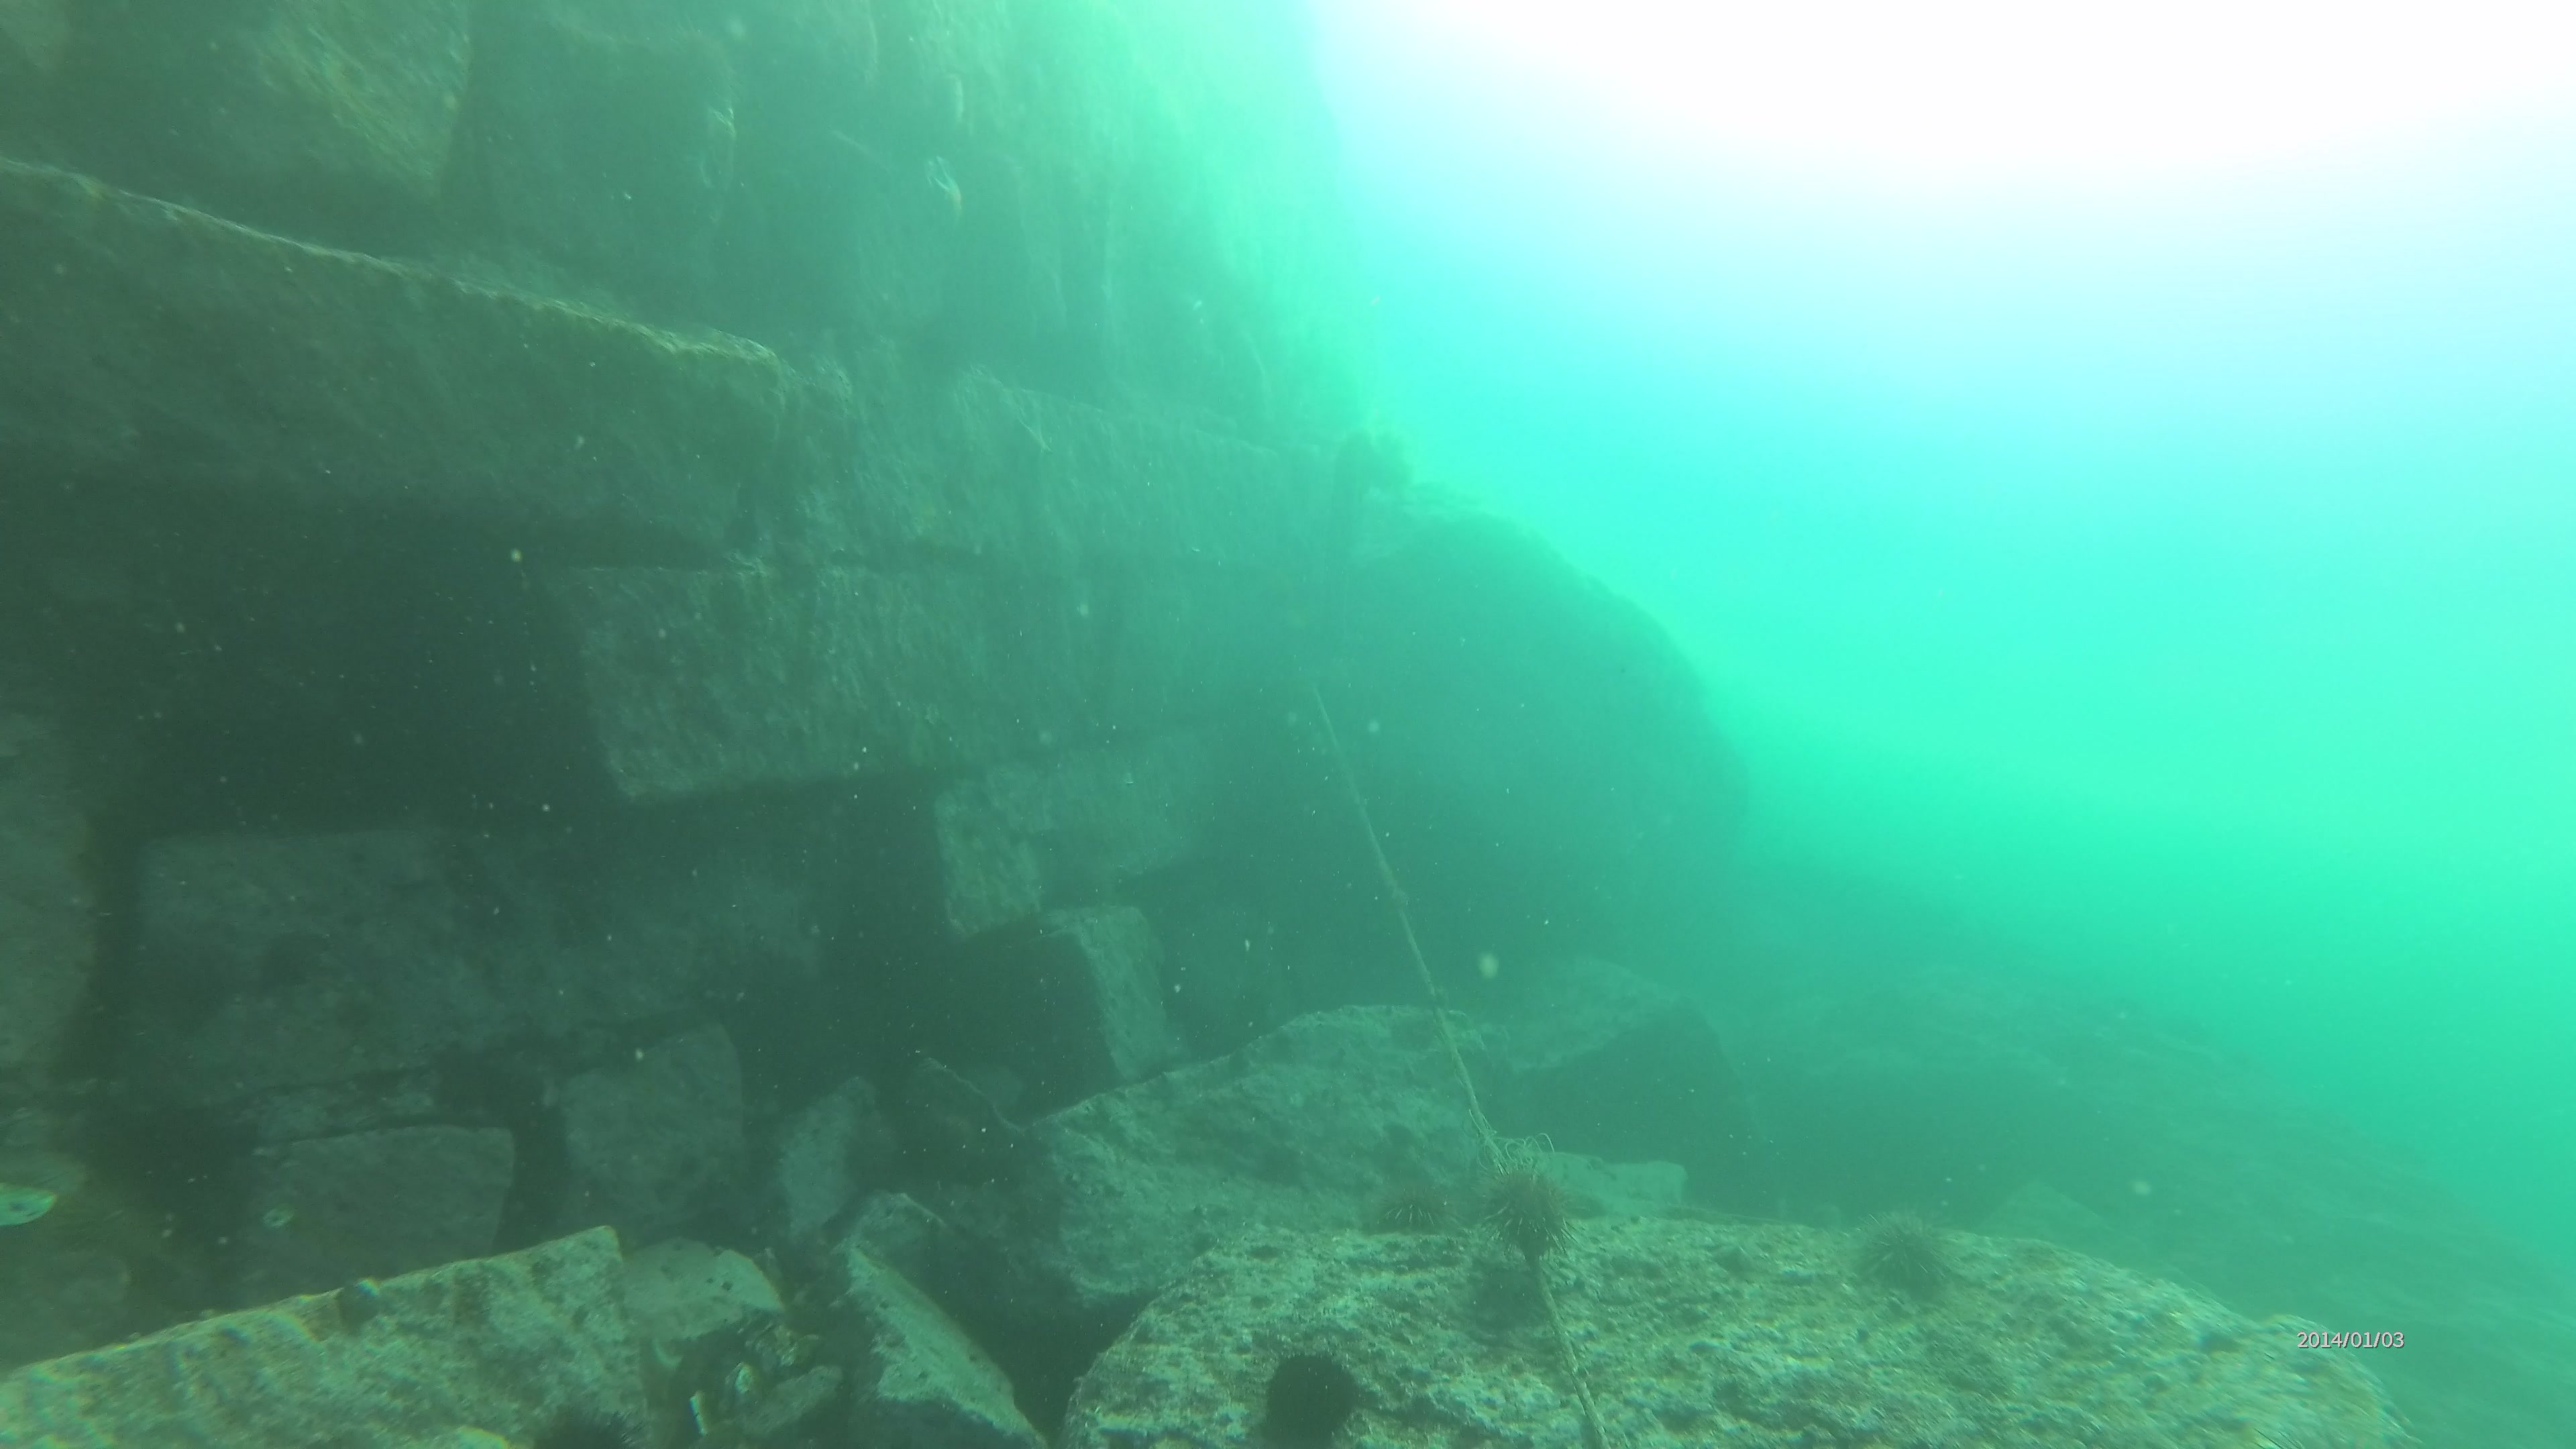echinus: (1260, 1338, 1369, 1445), (1858, 1203, 1962, 1304), (1484, 1152, 1582, 1254), (1368, 1166, 1465, 1249)
